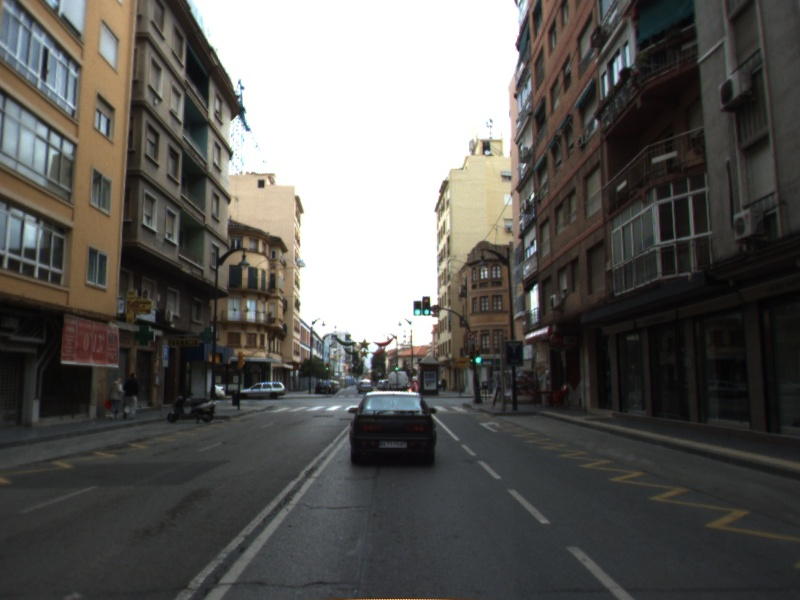RIGHT: (477, 419, 502, 434)
